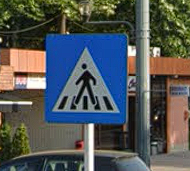trecere_pietoni: (43, 31, 128, 126)
